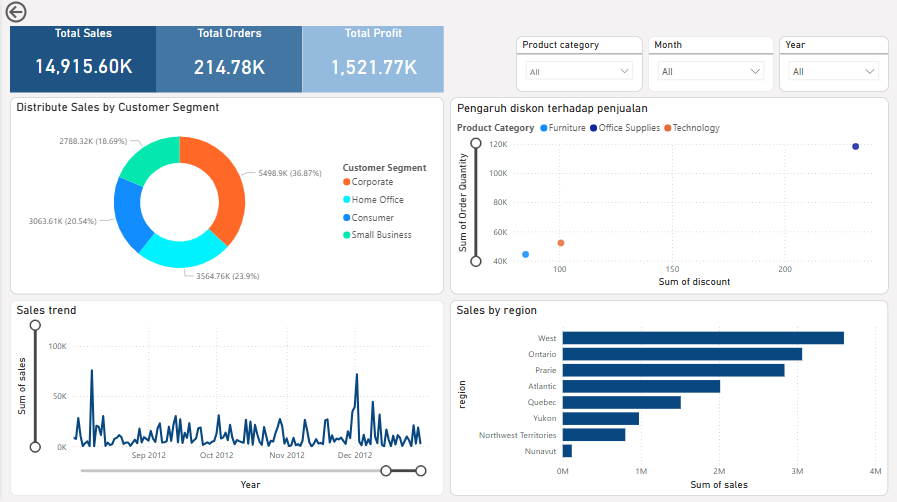

The page's visual inventory and layout, read from the dashboard file:
{"tool":"powerbi","page":{"name":"Page 1","canvas":[1280,720],"ordinal":0},"visuals":[{"type":"card","title":"Total Sales","fields":{"Values":["Sum(public fact_table.sales)"]},"box":[10.9,39.4,209.5,95.2],"z":0},{"type":"clusteredBarChart","title":"Sales by region","fields":{"Category":["public dim_customers.region"],"Y":["Sum(public fact_table.sales)"]},"box":[427.1,142.9,404.3,280],"z":1000},{"type":"lineChart","title":"Sales trend","fields":{"Y":["Sum(public fact_table.sales)"],"Category":["public dim_date.day_date.Variation.Date Hierarchy.Year","public dim_date.day_date.Variation.Date Hierarchy.Quarter","public dim_date.day_date.Variation.Date Hierarchy.Month","public dim_date.day_date.Variation.Date Hierarchy.Day"]},"box":[11.4,432.9,1255.7,275.7],"z":2000},{"type":"slicer","title":"Month","fields":{"Values":["public dim_date.day_date.Variation.Date Hierarchy.Month"]},"box":[922.2,54.4,180,80],"z":3000},{"type":"slicer","title":"Year","fields":{"Values":["public dim_date.day_date.Variation.Date Hierarchy.Year"]},"box":[1110,54.4,156.7,80],"z":4000},{"type":"slicer","title":"Product category","fields":{"Values":["public dim_products.Product Category"]},"box":[734.4,54.4,181.1,80],"z":5000},{"type":"donutChart","title":"Sales Composition by Customer Segment","fields":{"Category":["public dim_customers.Customer Segment"],"Y":["Sum(public fact_table.sales)"]},"box":[11.4,141.4,405.7,281.4],"z":6000},{"type":"scatterChart","title":"Pengaruh diskon terhadap penjualan","fields":{"Series":["public dim_products.Product Category"],"X":["Sum(public fact_table.discount)"],"Y":["Sum(public fact_table.Order Quantity)"]},"box":[841.4,141.4,425.7,281.4],"z":7000},{"type":"card","title":"Total Profit","fields":{"Values":["Sum(public fact_table.profit)"]},"box":[429.8,39.4,201.3,95.2],"z":8000},{"type":"card","title":"Total Orders","fields":{"Values":["Sum(public fact_table.Order Quantity)"]},"box":[220.4,39.4,209.5,95.2],"z":9000},{"type":"actionButton","box":[0,0,100,40],"z":10000}]}

Visuals, with their boxes in screenshot pixels (x1, y1, x2, y2), scaled from the page's 1280x720 canvas onto the 897x502 screenshot:
"Total Sales" card: crop(8, 27, 154, 94)
"Sales by region" clusteredBarChart: crop(299, 100, 583, 295)
"Sales trend" lineChart: crop(8, 302, 888, 494)
"Month" slicer: crop(646, 38, 772, 94)
"Year" slicer: crop(778, 38, 888, 94)
"Product category" slicer: crop(515, 38, 642, 94)
"Sales Composition by Customer Segment" donutChart: crop(8, 99, 292, 295)
"Pengaruh diskon terhadap penjualan" scatterChart: crop(590, 99, 888, 295)
"Total Profit" card: crop(301, 27, 442, 94)
"Total Orders" card: crop(154, 27, 301, 94)
actionButton: crop(0, 0, 70, 28)
